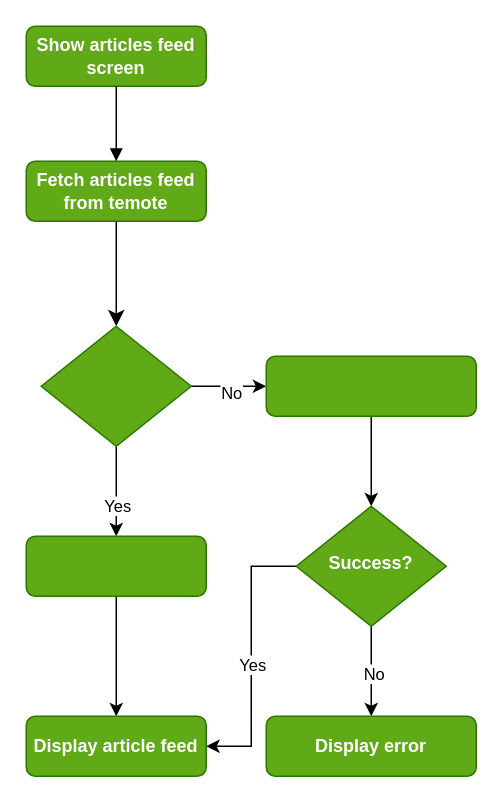
Image size: 503x803. Some labels were removed from this diagram. Each missing label, with the centre of its shape:
"Cache article feed" belongs at (115,565).
"Load articles feed from cache" belongs at (370,385).
"Success" belongs at (115,385).
